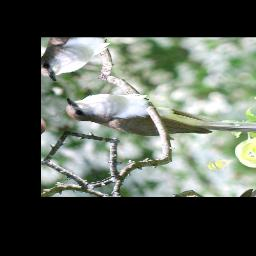Cuckoo: (57, 47, 256, 185)
